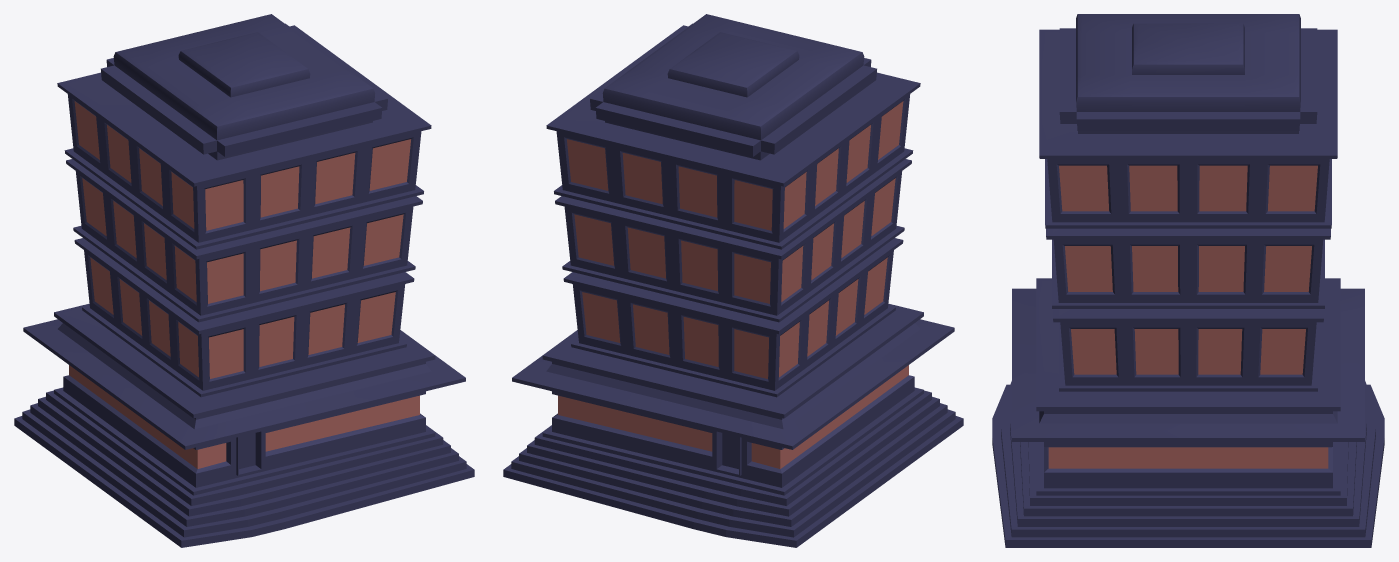
Rendered from Basic Building small.FBX.
The picture shows the model from 3 angles, left to right: view 1: azimuth 30°, elevation 25°; view 2: azimuth 150°, elevation 25°; view 3: azimuth 270°, elevation 25°; orthographic projection. The views are drawn at different scales.
Parts seen in each view (by area): view 1: Basic Building #2; view 2: Basic Building #2; view 3: Basic Building #2.
Part boxes in pixels (<box>): Basic Building #2: <box>14,14,474,547</box>; Basic Building #2: <box>503,14,963,547</box>; Basic Building #2: <box>992,14,1384,547</box>.
Bounding box in the file's own units: 19.52 × 25.01 × 20.81.
